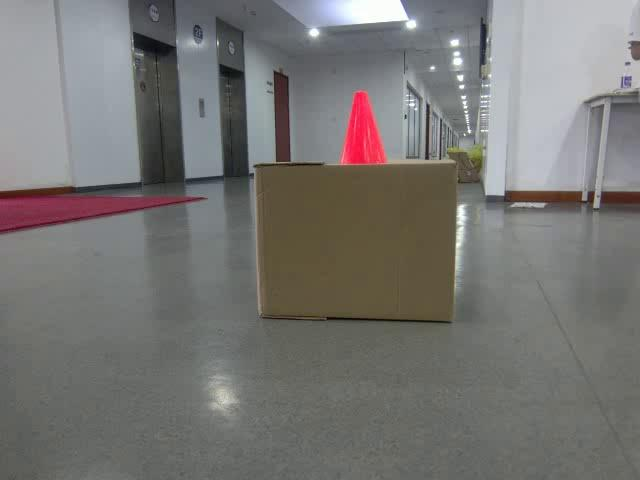orange_barrel: (341, 91, 388, 165)
